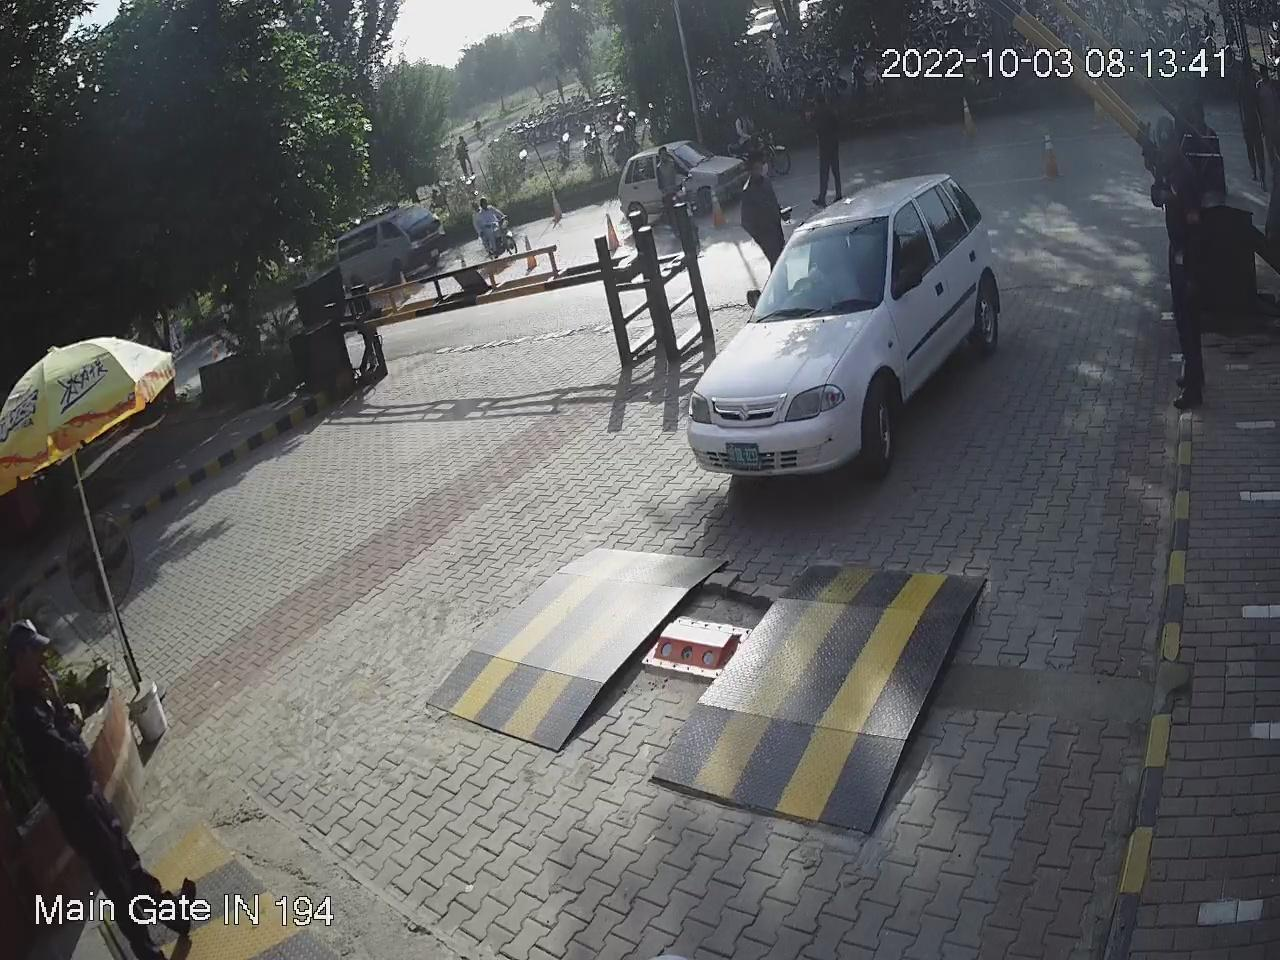windshield: (751, 208, 893, 313)
